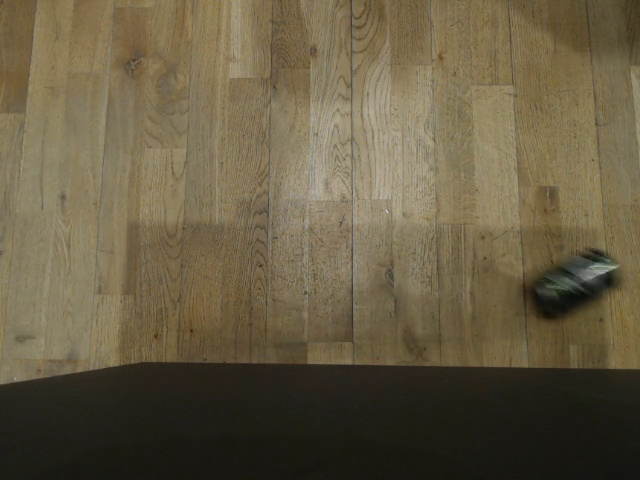beer: (520, 245, 621, 323)
